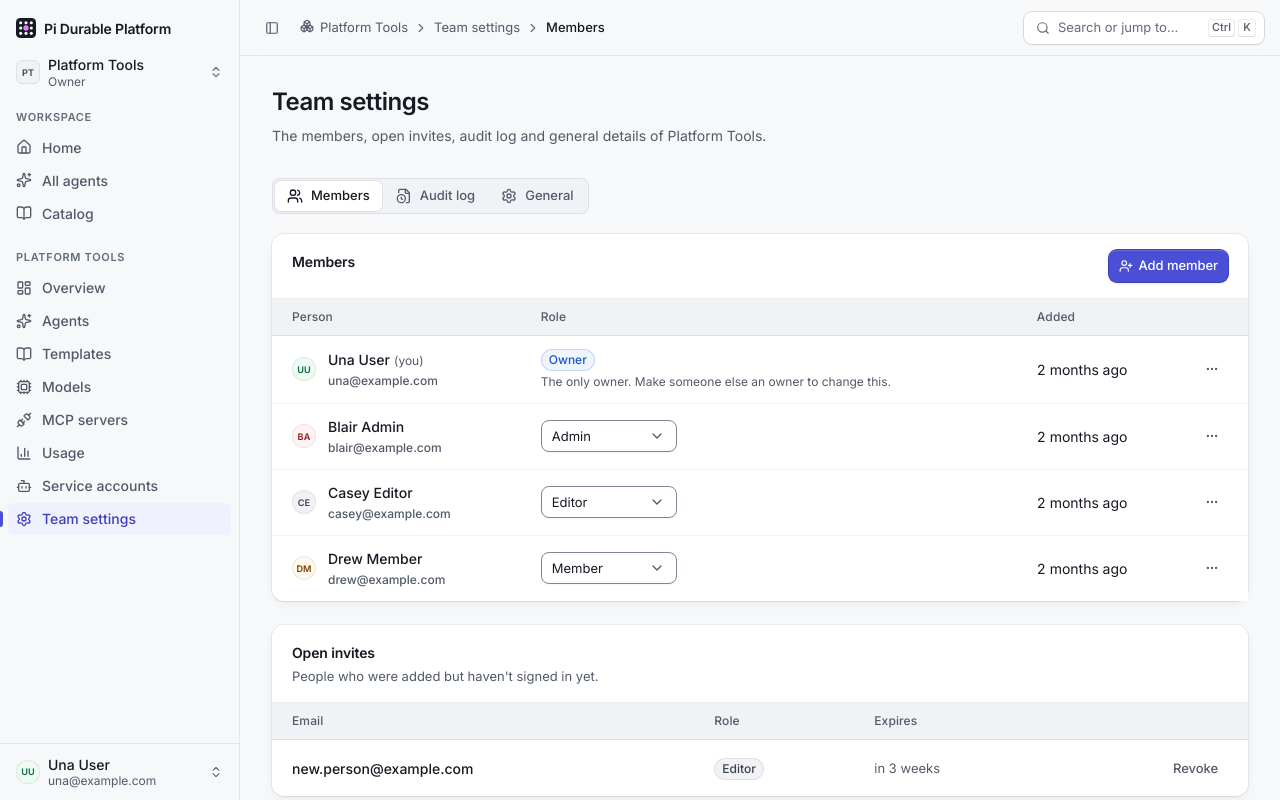
Team settings › Members › adds a member by email and says when they were invited instead
The image size is (1280, 800).
Click the button "Add member" at (1168, 266), box [1109,250,1228,282]
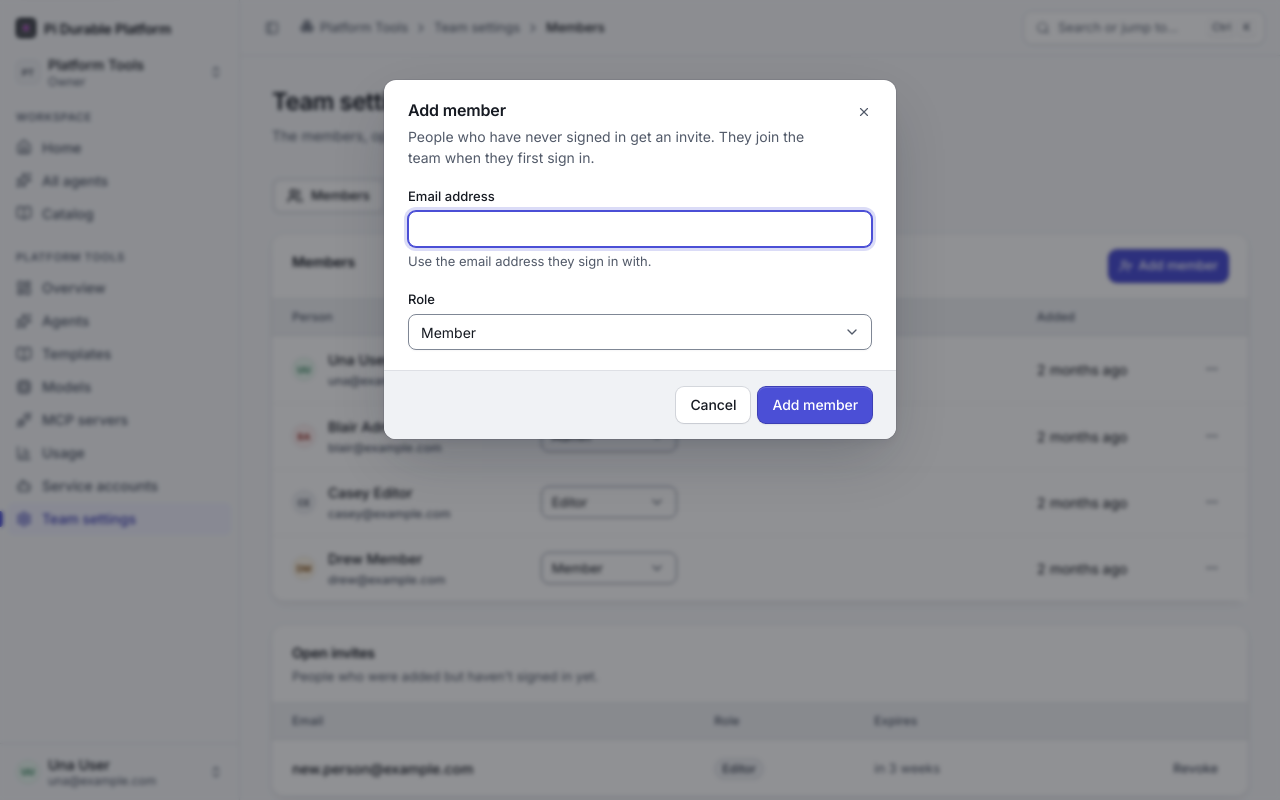
Click the button "Add member" at (815, 405), box [758,387,872,423]
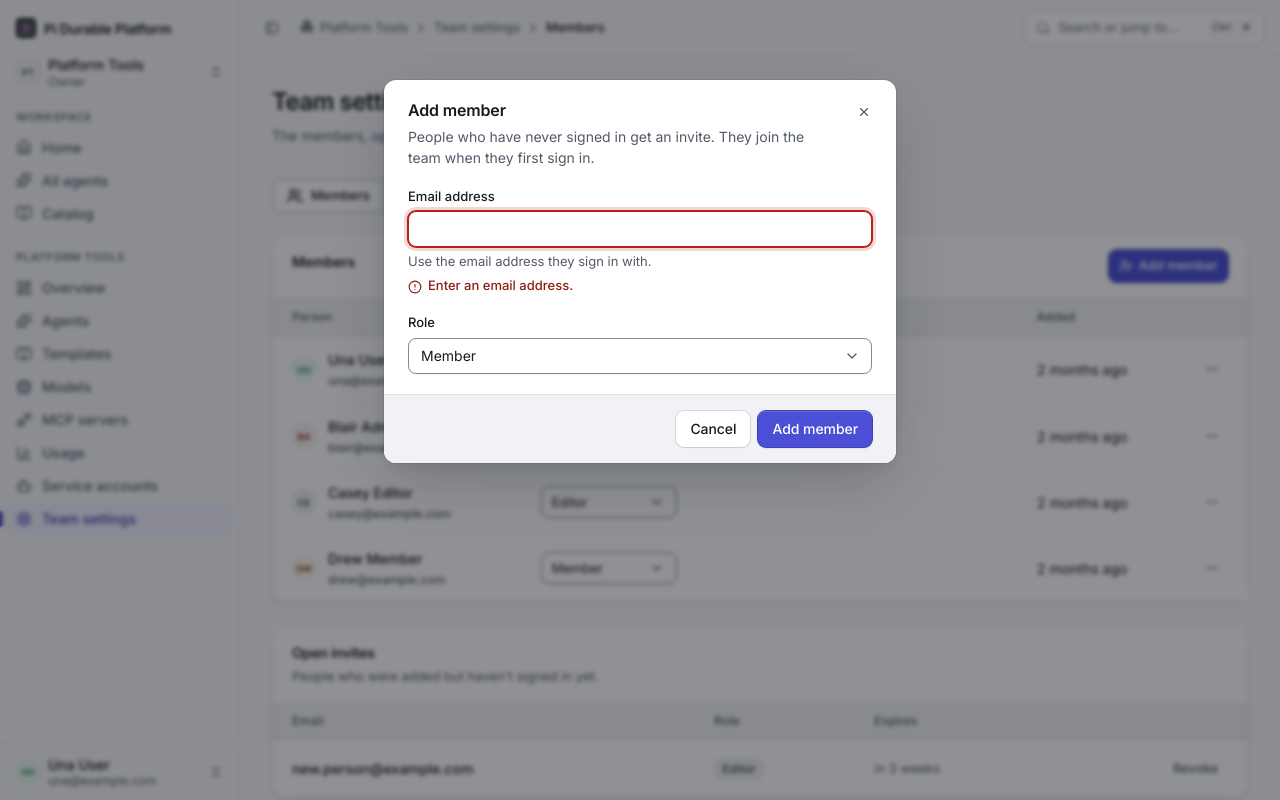
Expected: the text "Enter an email address." is shown, [428,277,573,294]
Type "new@example.com" into the field labelled "Email address" at (640, 229), box [408,211,872,247]
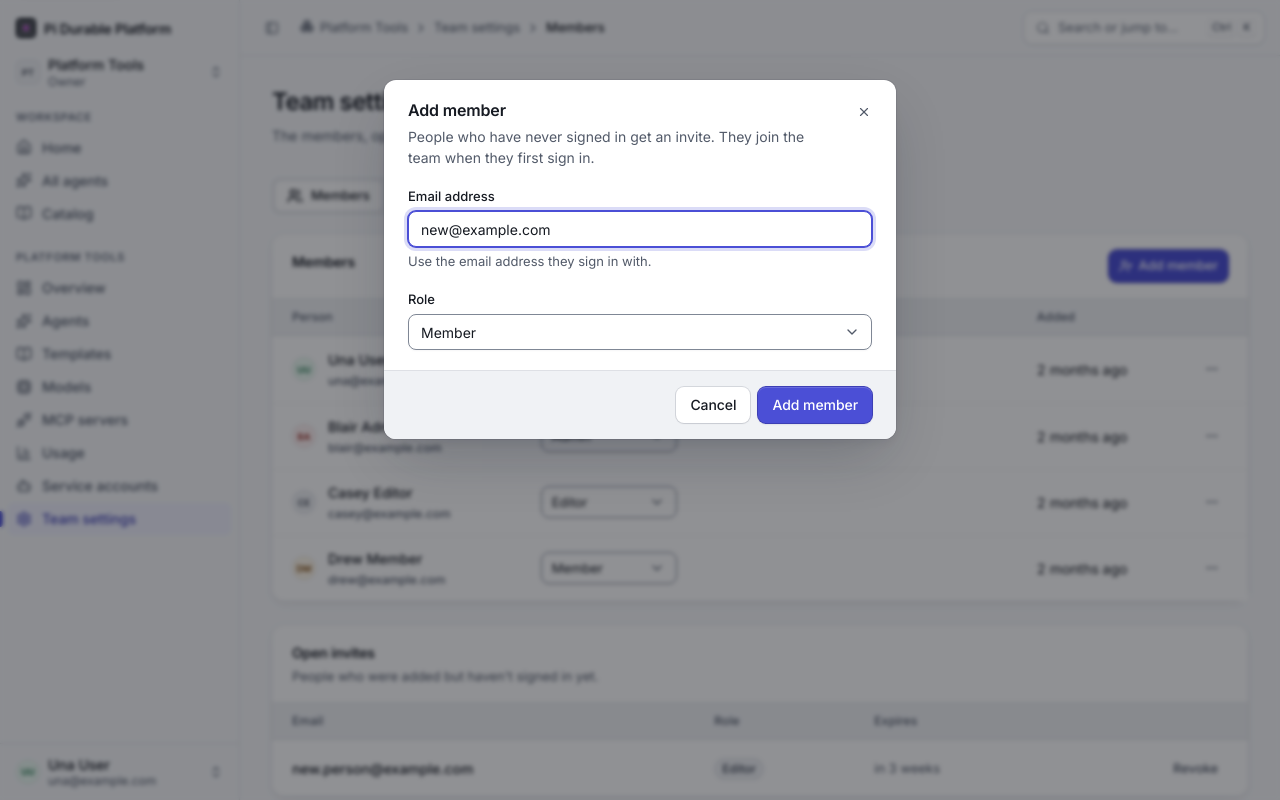
Select "Editor" in the dropdown labelled "Role" at (640, 332), box [408,314,872,350]
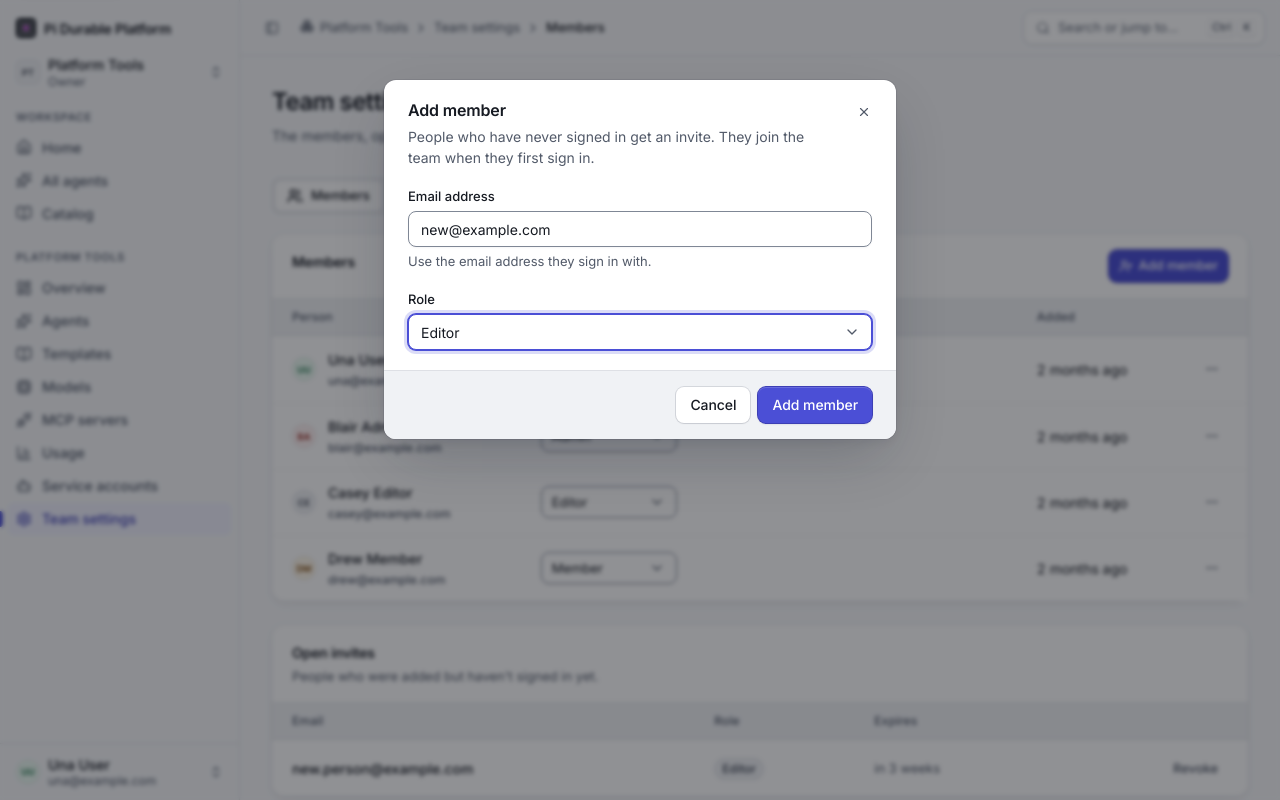
Click the button "Add member" at (815, 405), box [758,387,872,423]
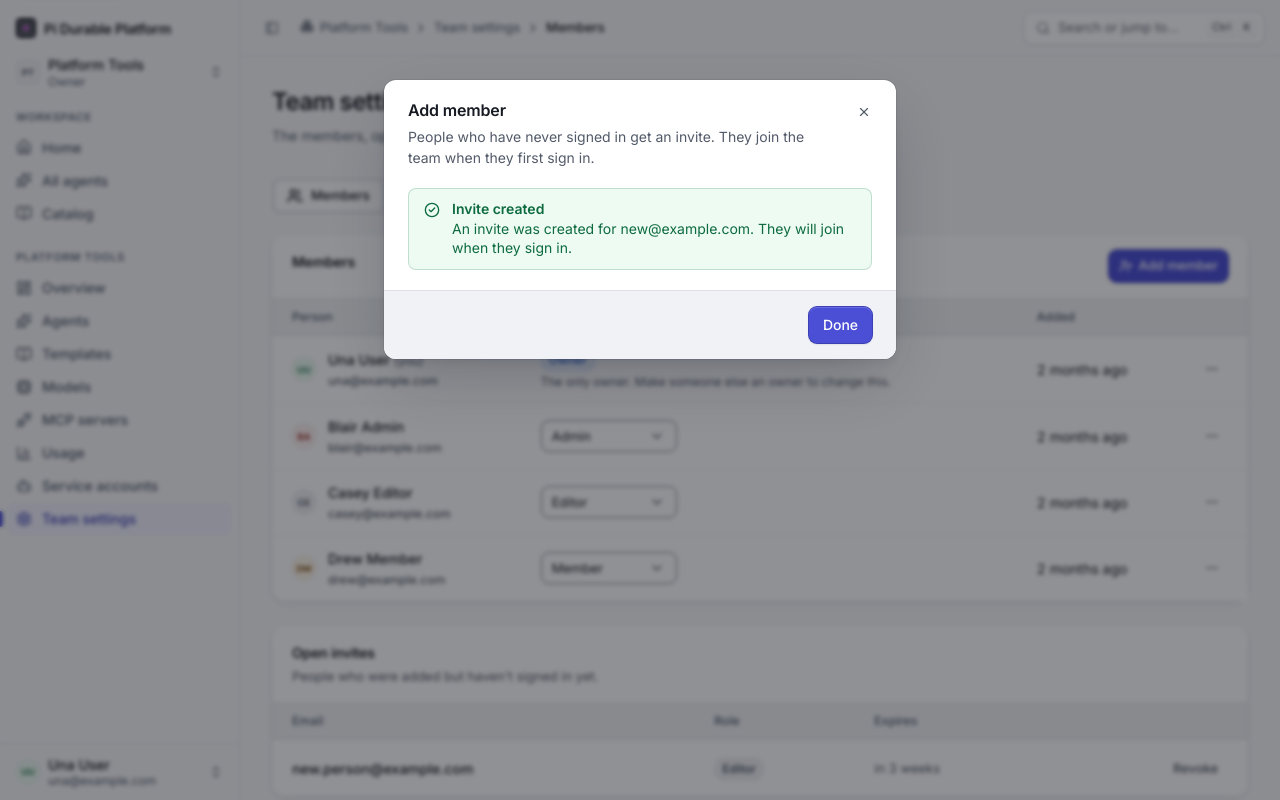
Expected: the text "Invite created" is shown, [452,200,544,217]
